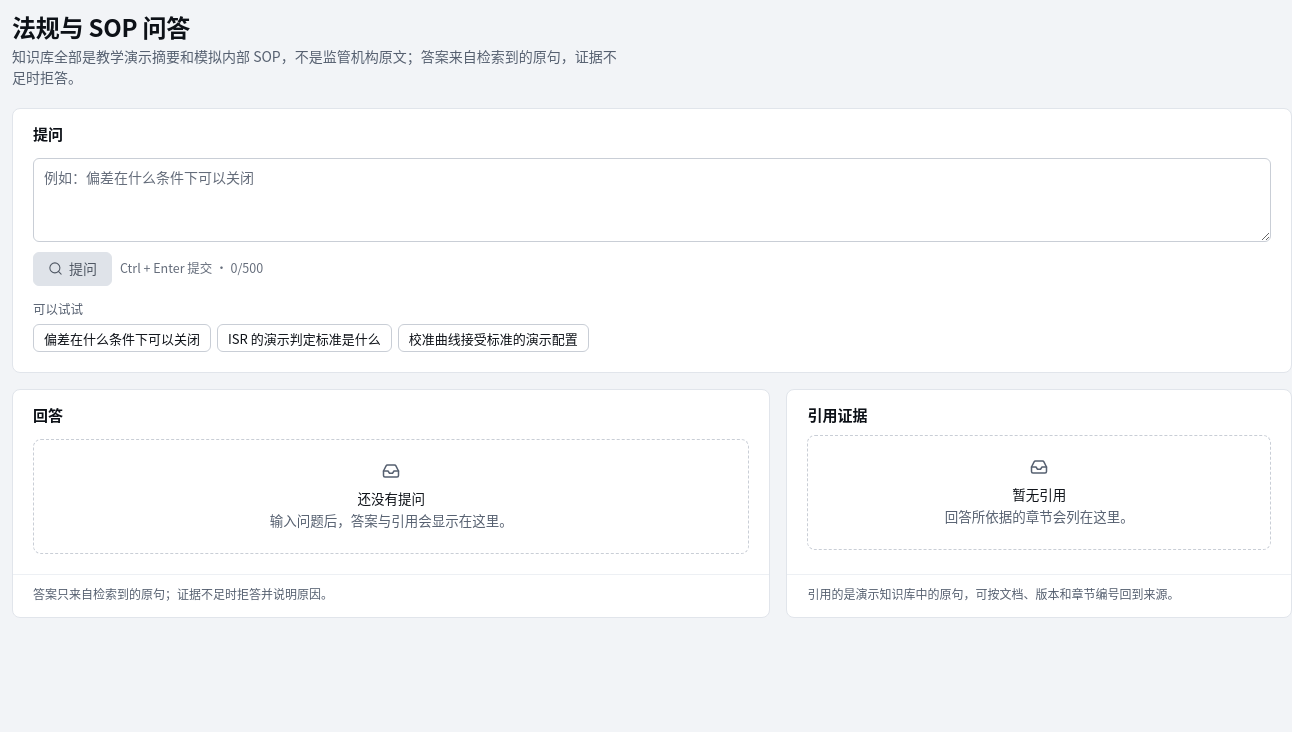
Test: 法规问答 › 拒答：醒目显示原因，没有引用，并说明拒答是设计行为
This screenshot has width=1292, height=732.
In the text box named "问题": point(652, 200) [33,158,1271,242], type "请给出 ICH M10 第 7.3.2 条的原文"
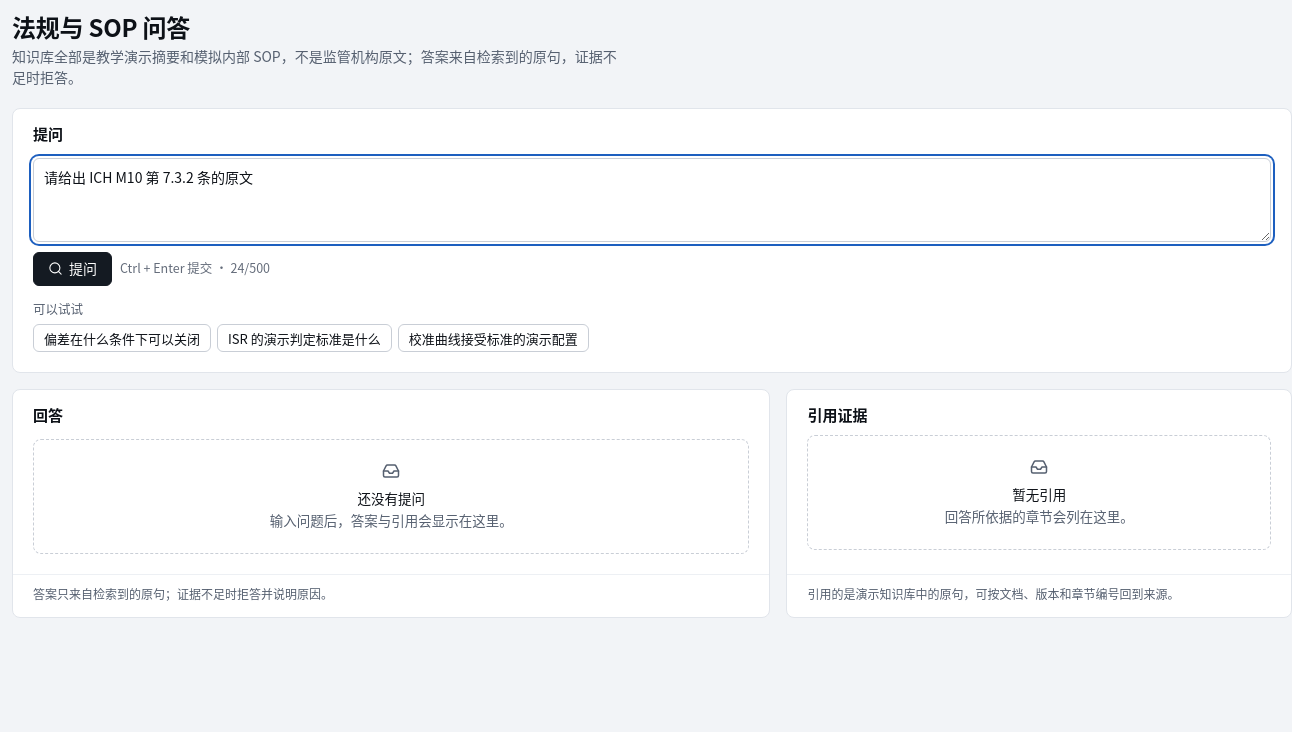
Click the button "提问": point(72, 268) [33,252,112,286]
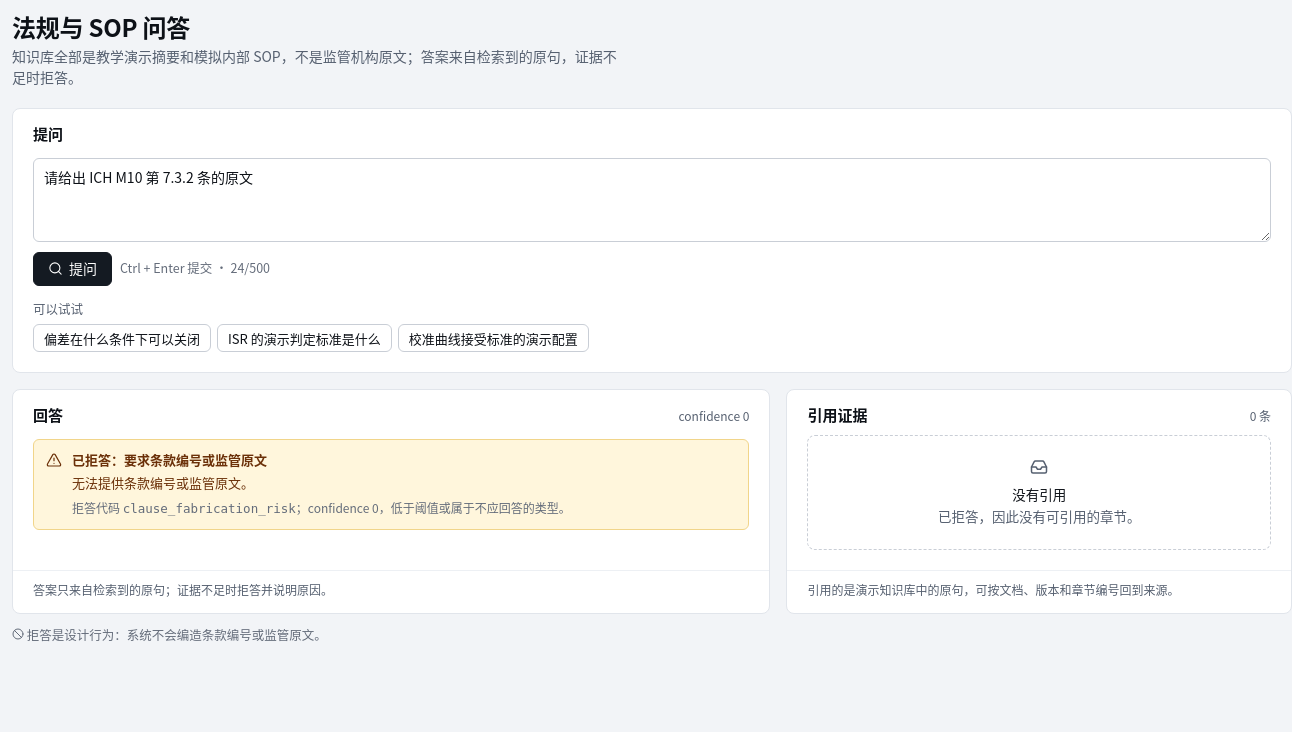
Now the text "已拒答：要求条款编号或监管原文" is shown, box [72,450,267,469]
Now the text "没有引用" is shown, box [1012,484,1066,504]
Now the text "拒答是设计行为：系统不会编造条款编号或监管原文。" is shown, box [12,624,327,644]
